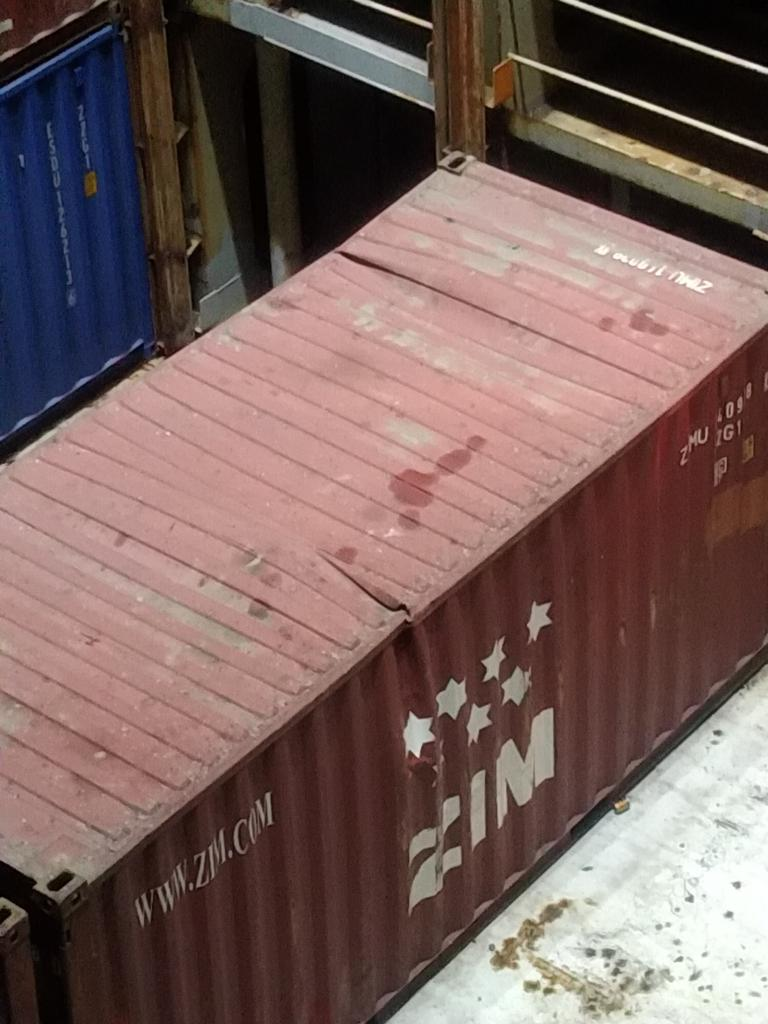severe: (296, 544, 417, 626), (328, 247, 453, 308)
